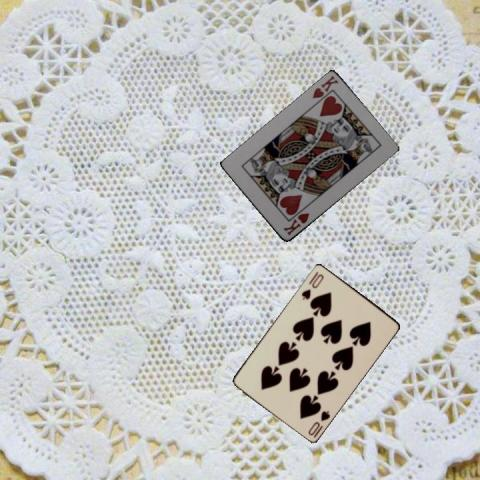10s: (298, 270, 325, 300), (305, 407, 331, 437)
Kh: (310, 72, 340, 100), (280, 210, 311, 237)
